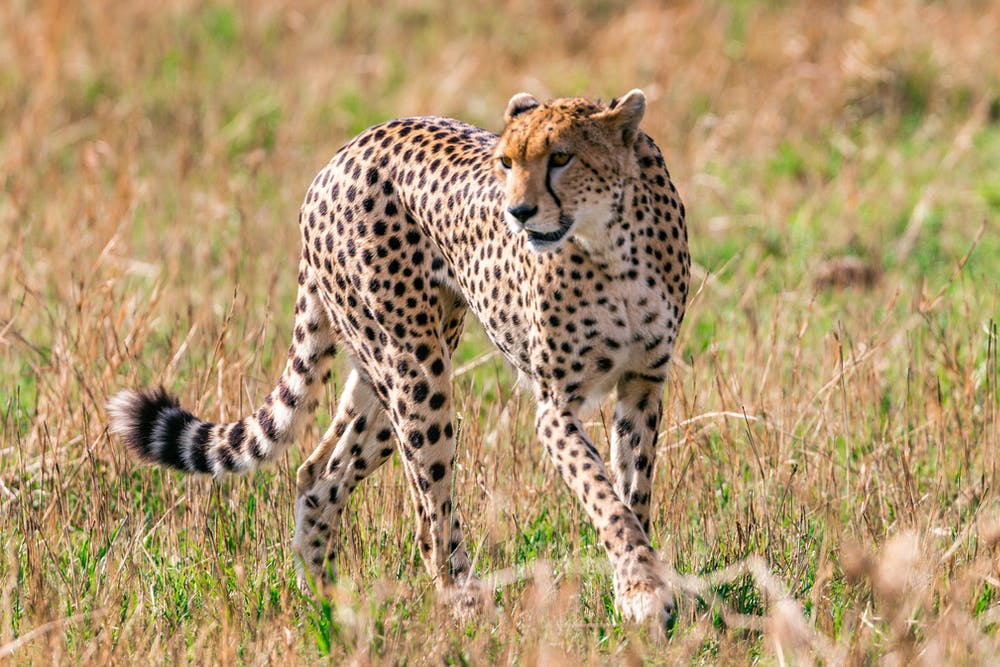cheetah: (481, 77, 657, 263)
